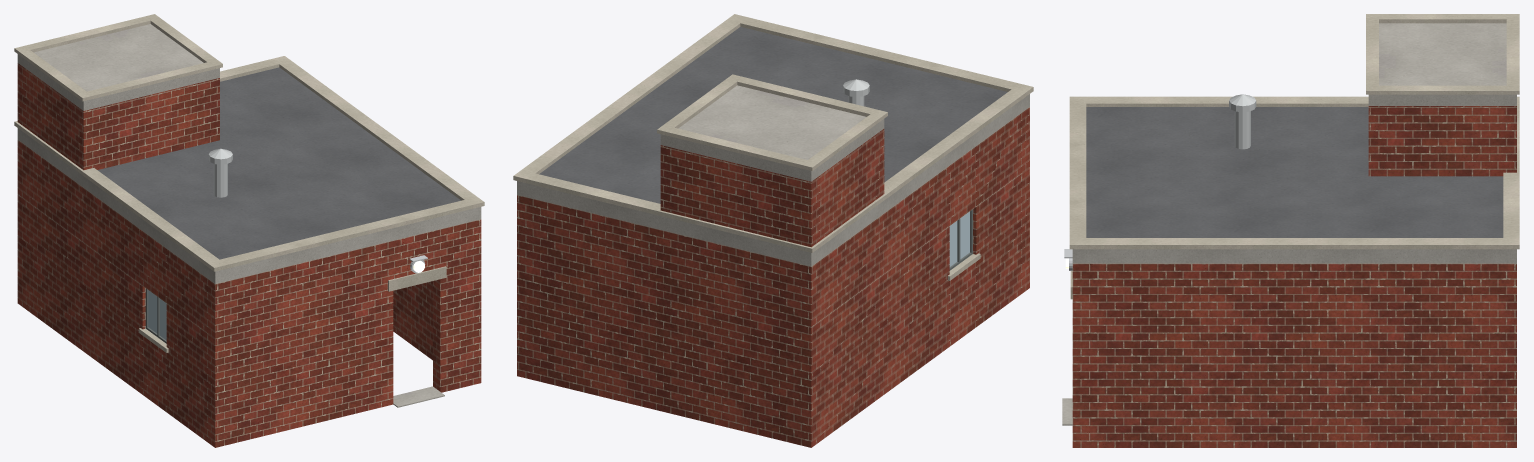
The model's file is bulkhead.glb.
The picture shows the model from 3 angles, left to right: view 1: azimuth 30°, elevation 25°; view 2: azimuth 150°, elevation 25°; view 3: azimuth 270°, elevation 25°; orthographic projection. The views are drawn at different scales.
Parts seen in each view (by area): view 1: bulkhead_brick, bulkhead_membrane, bulkhead_concrete, bulkhead_stone, bulkhead_galv, bulkhead_glass; view 2: bulkhead_brick, bulkhead_membrane, bulkhead_stone, bulkhead_concrete, bulkhead_glass, bulkhead_galv; view 3: bulkhead_brick, bulkhead_membrane, bulkhead_stone, bulkhead_concrete, bulkhead_galv.
Boxes of the visible parts, box(x1,y1,x2,y2) form: bulkhead_brick: box(17, 63, 481, 447); bulkhead_membrane: box(97, 67, 460, 259); bulkhead_concrete: box(17, 24, 481, 407); bulkhead_stone: box(14, 14, 484, 352); bulkhead_galv: box(208, 148, 232, 197); bulkhead_glass: box(148, 290, 166, 340); bulkhead_brick: box(517, 107, 1029, 447); bulkhead_membrane: box(539, 27, 1007, 203); bulkhead_stone: box(513, 14, 1033, 280); bulkhead_concrete: box(517, 85, 1029, 266); bulkhead_glass: box(949, 211, 969, 266); bulkhead_galv: box(843, 79, 869, 106); bulkhead_brick: box(1072, 106, 1516, 447); bulkhead_membrane: box(1086, 107, 1503, 237); bulkhead_stone: box(1069, 14, 1519, 299); bulkhead_concrete: box(1062, 23, 1516, 425); bulkhead_galv: box(1229, 94, 1256, 149).
Bounding box in the file's own units: 5.16 × 4.65 × 6.72.
Materials: 10 (5 with a texture image).
